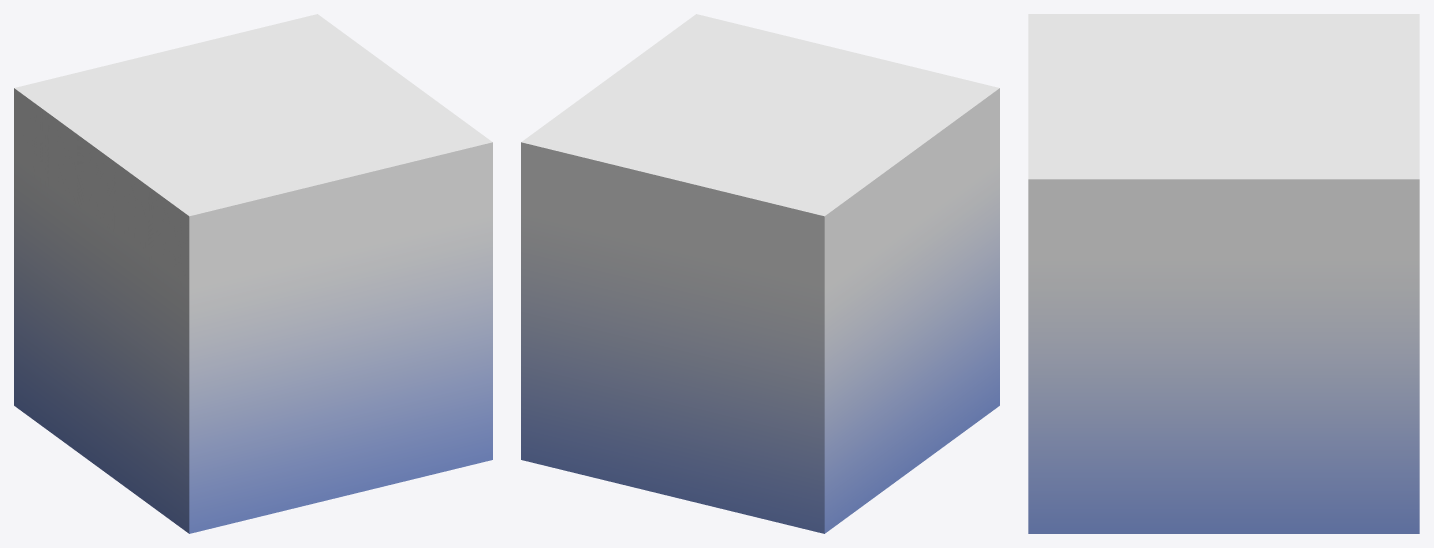
File: Stone014.fbx
3 renders of one model, left to right at view 1: azimuth 30°, elevation 25°; view 2: azimuth 150°, elevation 25°; view 3: azimuth 270°, elevation 25°, orthographic. The views are drawn at different scales.
Visible parts, largest first — view 1: Stone014; view 2: Stone014; view 3: Stone014.
Boxes of the visible parts, box(x1,y1,x2,y2) form: Stone014: box(14, 14, 492, 533); Stone014: box(521, 14, 999, 533); Stone014: box(1028, 14, 1419, 533).
Size of the model in its own units: 156 by 156 by 156.
